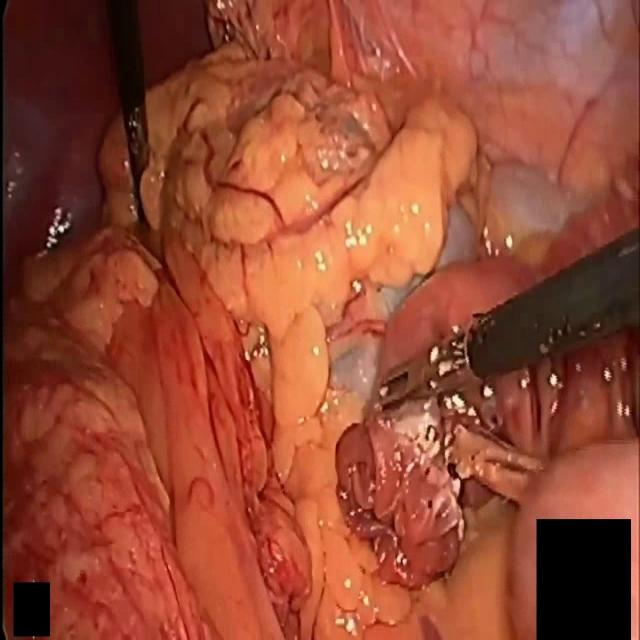surgical-area: (0, 0, 640, 639)
surgical-tool: (378, 226, 640, 404), (106, 0, 150, 222)
